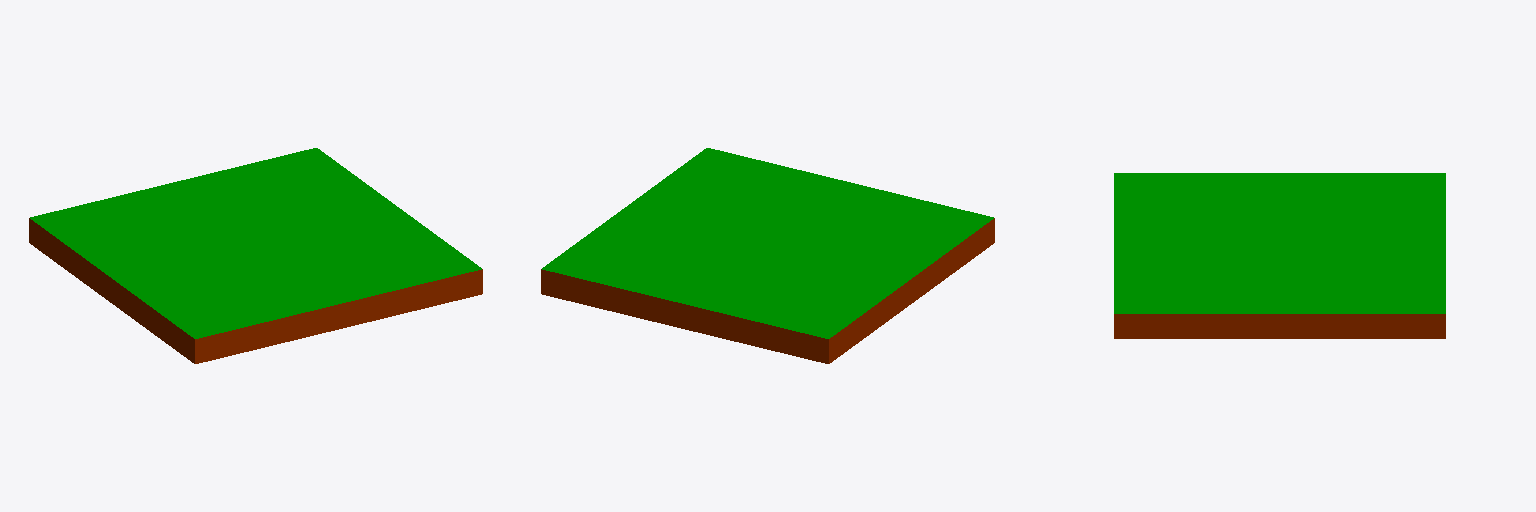
File: floorBig.obj
3 views of the same model, side by side, from view 1: azimuth 30°, elevation 25°; view 2: azimuth 150°, elevation 25°; view 3: azimuth 270°, elevation 25° (orthographic).
Parts seen in each view (by area): view 1: Cube; view 2: Cube; view 3: Cube.
Boxes of the visible parts, box(x1,y1,x2,y2) form: Cube: box(29, 148, 482, 363); Cube: box(541, 148, 994, 363); Cube: box(1114, 173, 1445, 338).
Bounding box in the file's own units: 24 × 2 × 24.